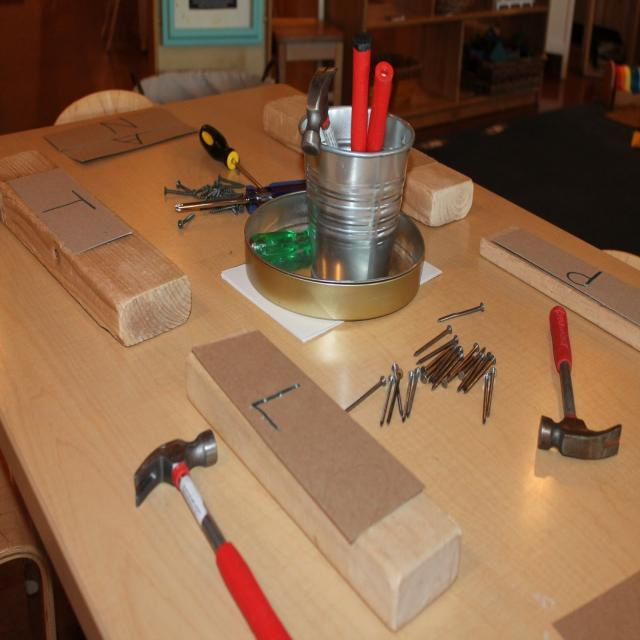hammer: (131, 412, 298, 640), (535, 302, 628, 466), (303, 44, 347, 174)
screwdriver: (169, 168, 315, 222), (190, 116, 276, 204)
